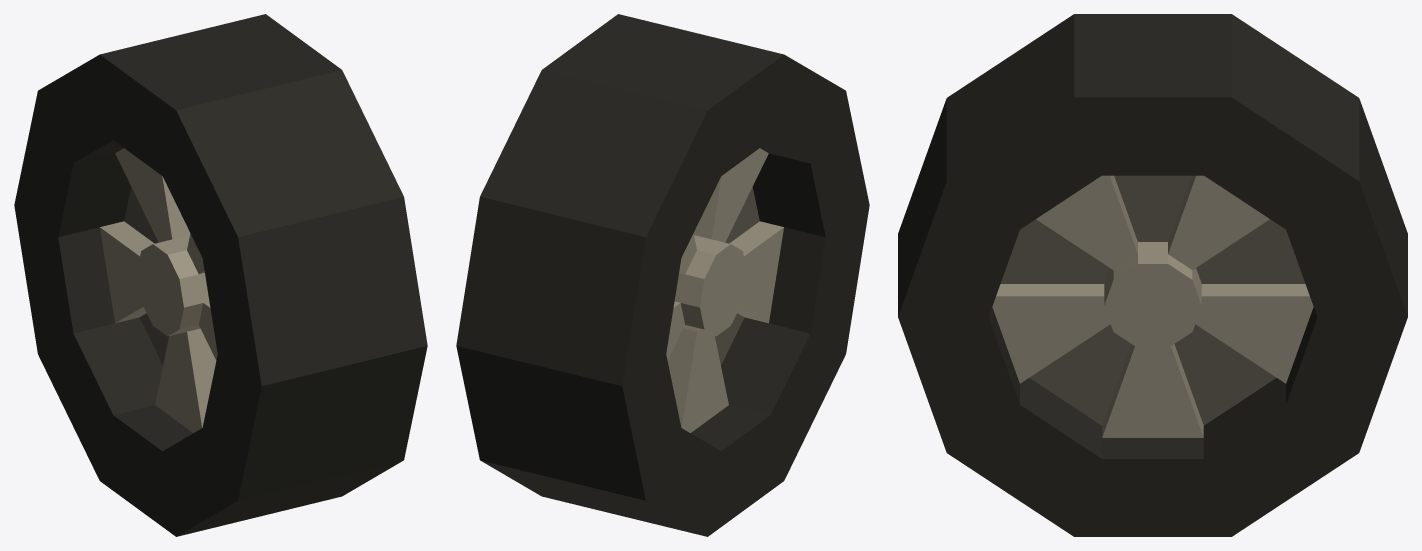
The model's file is wheel_mirror.fbx.
The picture shows the model from 3 angles, left to right: view 1: azimuth 30°, elevation 25°; view 2: azimuth 150°, elevation 25°; view 3: azimuth 270°, elevation 25°; orthographic projection. The views are drawn at different scales.
Parts seen in each view (by area): view 1: wheel_mirror; view 2: wheel_mirror; view 3: wheel_mirror.
Part boxes in pixels (bbox=[...]): wheel_mirror: bbox=[14, 14, 427, 536]; wheel_mirror: bbox=[456, 14, 869, 536]; wheel_mirror: bbox=[898, 14, 1407, 536].
Bounding box in the file's own units: 29.94 × 73.53 × 77.31.
